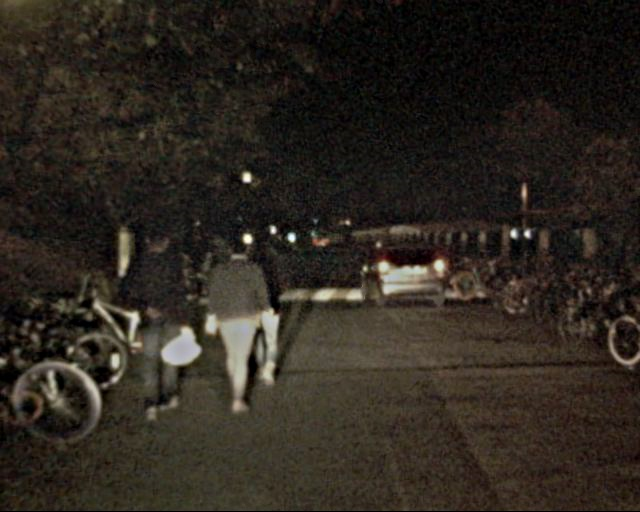person: (120, 221, 198, 419), (195, 235, 278, 416), (226, 228, 294, 387)
